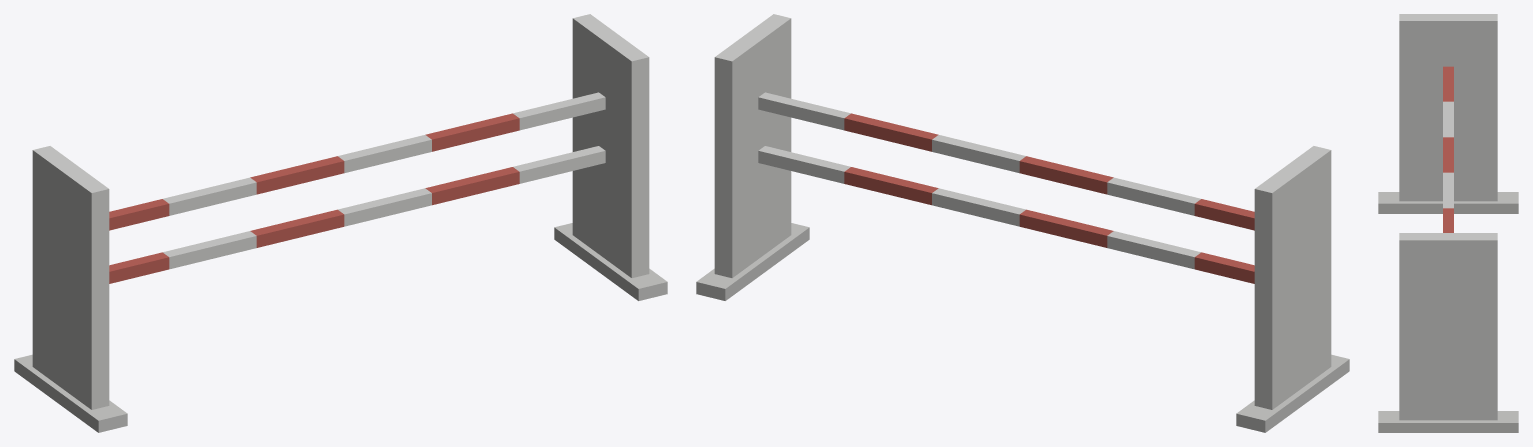
File: SM_BM_BHip_Jump.glb
3 views of the same model, side by side, from view 1: azimuth 30°, elevation 25°; view 2: azimuth 150°, elevation 25°; view 3: azimuth 270°, elevation 25° (orthographic). The views are drawn at different scales.
Visible parts, largest first — view 1: SM_BM_BHip_Jump; view 2: SM_BM_BHip_Jump; view 3: SM_BM_BHip_Jump.
Boxes of the visible parts, <box> form: SM_BM_BHip_Jump: <box>14,14,667,432</box>; SM_BM_BHip_Jump: <box>696,14,1349,432</box>; SM_BM_BHip_Jump: <box>1378,14,1518,432</box>.
Size of the model in its own units: 3.9 by 1.5 by 1.
